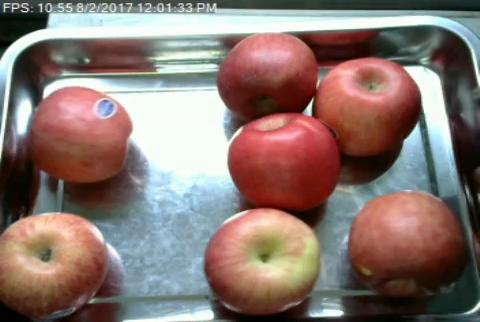apple: (347, 192, 472, 301), (203, 210, 321, 314), (0, 212, 109, 322), (226, 111, 341, 212), (29, 87, 134, 185), (313, 58, 421, 152), (219, 32, 318, 113)
